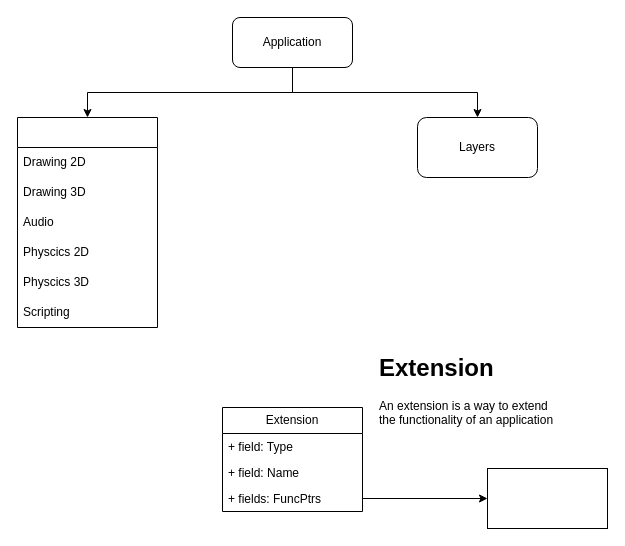
Some shapes in this 625 by 546 pixel diagram are drawn without their labels. Here are the shapes that lost their labels. From the top down, the box of each, then its label:
(16, 116, 158, 328): Extensions
(486, 468, 608, 528): Extension Functions
